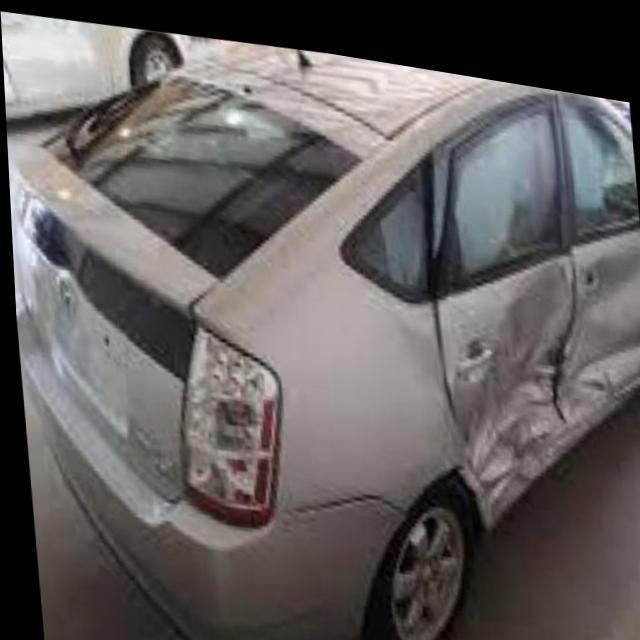dent: (432, 220, 640, 518)
